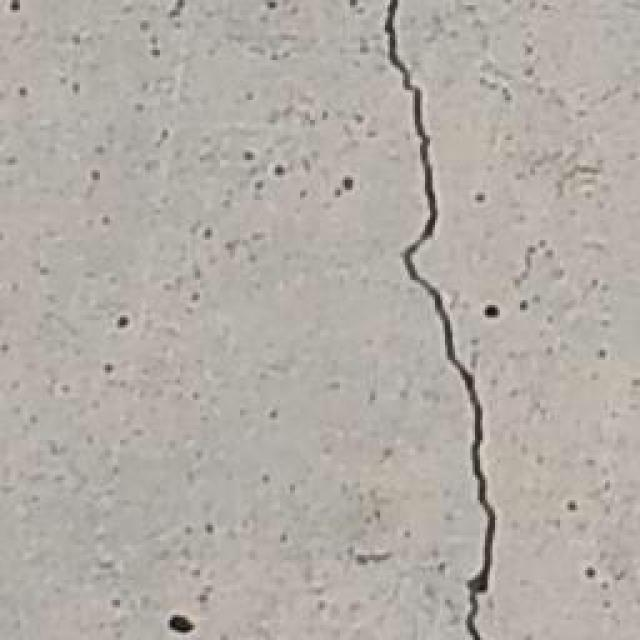concrete-crack: (385, 0, 498, 639)
